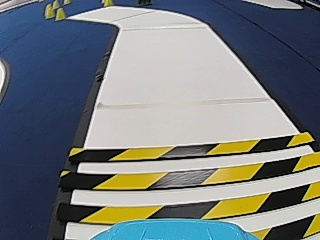bump: (92, 141, 308, 218)
